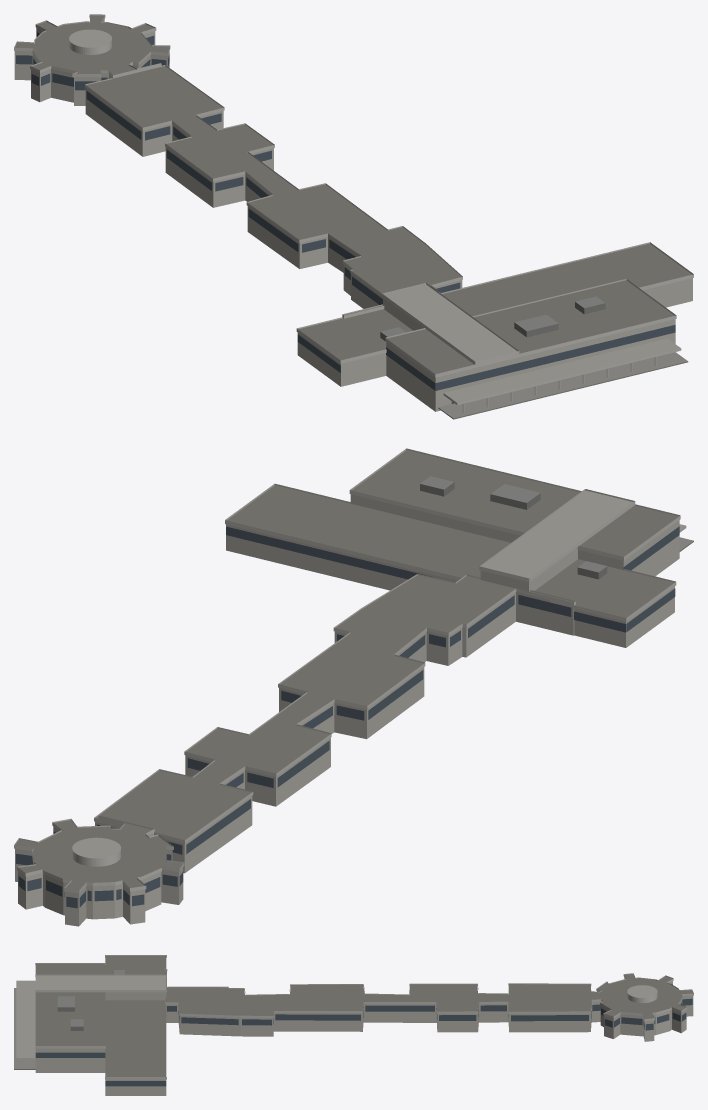
File: airport-terminal-1972.glb
The picture shows the model from 3 angles, top to bottom: view 1: azimuth 30°, elevation 25°; view 2: azimuth 150°, elevation 25°; view 3: azimuth 270°, elevation 25°; orthographic projection. The views are drawn at different scales.
Visible parts, largest first — view 1: airport_terminal_1972; view 2: airport_terminal_1972; view 3: airport_terminal_1972.
Part boxes in pixels (x1,y1,x2,y2): airport_terminal_1972: (14, 14, 693, 419); airport_terminal_1972: (14, 448, 693, 926); airport_terminal_1972: (14, 955, 693, 1095).
Bounding box in the file's own units: 132 × 15.5 × 312.
